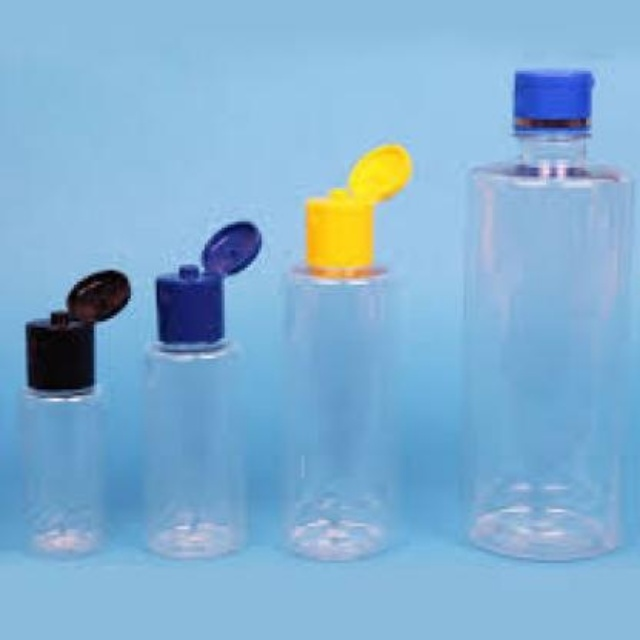trash: (465, 69, 631, 558), (286, 145, 411, 560), (148, 222, 260, 557), (23, 269, 129, 552)
